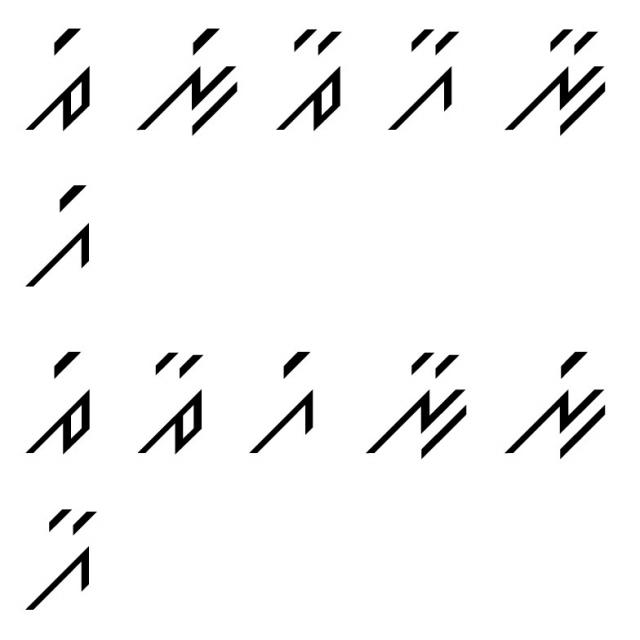gan: (388, 19, 471, 137), (23, 501, 101, 612)
gang: (239, 338, 323, 458), (24, 176, 97, 293)
ngan: (504, 29, 616, 144), (361, 348, 469, 459)
ngang: (124, 21, 243, 144), (494, 342, 612, 462)
tan: (274, 25, 359, 136), (137, 343, 213, 461)
tang: (24, 26, 100, 147), (18, 348, 98, 460)
